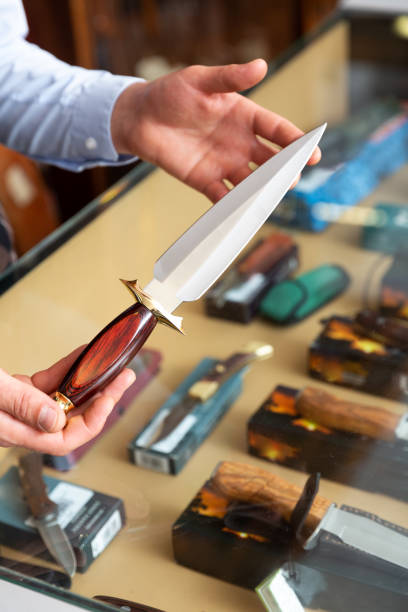knife: (54, 119, 330, 412), (16, 447, 78, 579)
